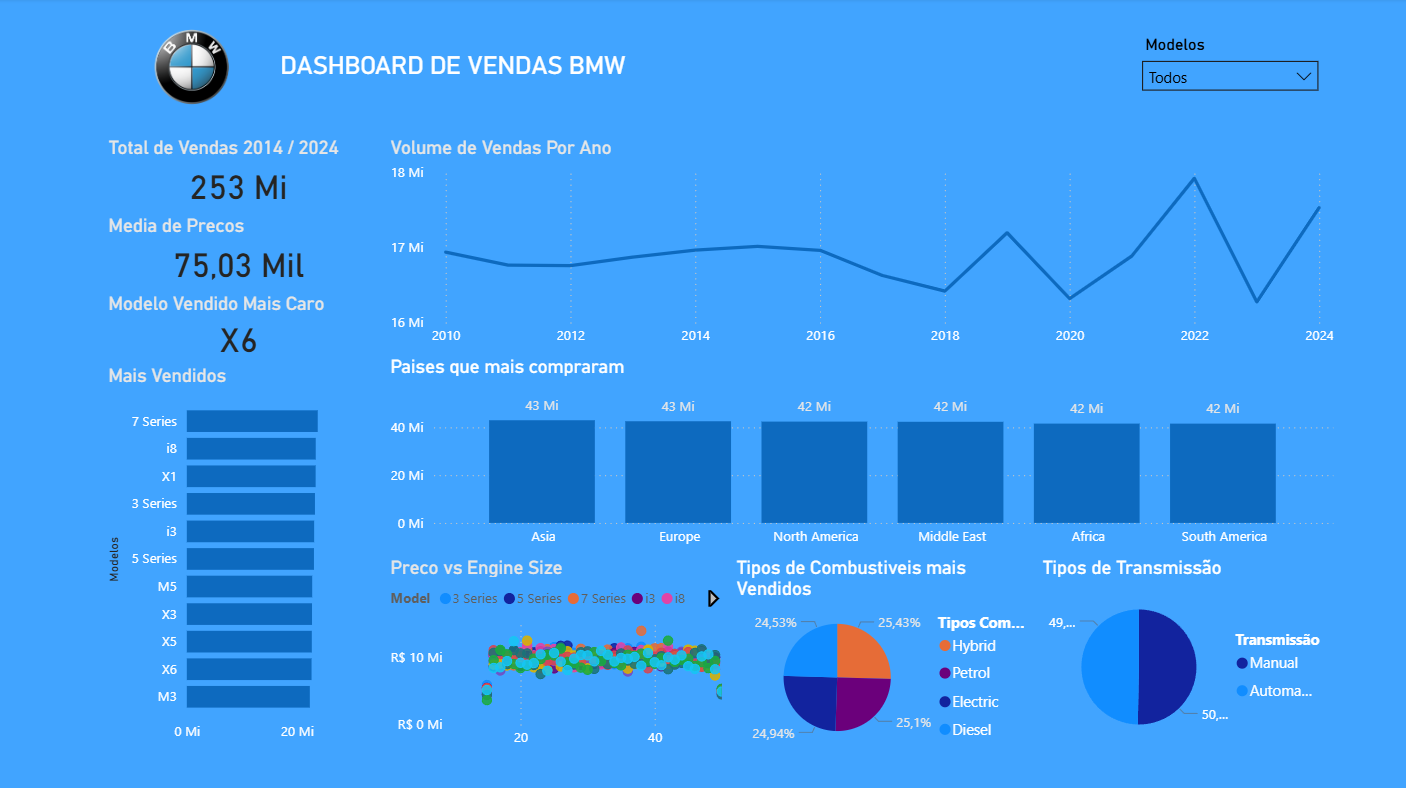

The dashboard page shown, as its layout file describes it:
{"tool":"powerbi","page":{"name":"Página 1","canvas":[1280,720],"ordinal":0},"visuals":[{"type":"lineChart","title":"Volume de Vendas Por Ano","fields":{"Category":["BMW sales data (2010-2024).Year"],"Y":["Sum(BMW sales data (2010-2024).Sales_Volume)"]},"box":[350,125.1,865.1,198.6],"z":0},{"type":"card","title":"Media de Precos","fields":{"Values":["Avg(BMW sales data (2010-2024).Price_USD)"]},"box":[94.3,195.9,245.7,70.7],"z":1000},{"type":"card","title":"Total de Vendas 2014 / 2024","fields":{"Values":["Sum(BMW sales data (2010-2024).Sales_Volume)"]},"box":[94.3,125.1,245.7,70.7],"z":2000},{"type":"barChart","title":"Mais Vendidos","fields":{"Category":["BMW sales data (2010-2024).Model"],"Y":["Sum(BMW sales data (2010-2024).Sales_Volume)"]},"box":[94.3,331.9,245.7,350.9],"z":3000},{"type":"slicer","fields":{"Values":["BMW sales data (2010-2024).Model"]},"box":[1026.5,29,179.5,66.2],"z":4000},{"type":"image","box":[94.3,0,161.4,125.1],"z":5000},{"type":"textbox","title":"DASHBOARD DE VENDAS BMW","box":[200.4,48.1,422.6,28.1],"z":6000},{"type":"pieChart","title":"Tipos de Combustiveis mais Vendidos","fields":{"Category":["BMW sales data (2010-2024).Fuel_Type"],"Y":["CountNonNull(BMW sales data (2010-2024).Fuel_Type)"]},"box":[663.8,506,276.6,182.3],"z":7000},{"type":"pieChart","title":"Tipos de Transmissão","fields":{"Category":["BMW sales data (2010-2024).Transmission"],"Y":["CountNonNull(BMW sales data (2010-2024).Transmission)"]},"box":[941.3,506,273.9,182.3],"z":8000},{"type":"columnChart","title":"Paises que mais compraram","fields":{"Category":["BMW sales data (2010-2024).Region"],"Y":["Sum(BMW sales data (2010-2024).Sales_Volume)"]},"box":[350,323.7,865.1,182.3],"z":9000},{"type":"scatterChart","title":"Preco vs Engine Size","fields":{"X":["BMW sales data (2010-2024).Engine_Size_L"],"Y":["Sum(BMW sales data (2010-2024).Price_USD)"],"Series":["BMW sales data (2010-2024).Model"]},"box":[350,506,317.4,182.3],"z":10000},{"type":"card","title":"Modelo Vendido Mais Caro","fields":{"Values":["BMW sales data (2010-2024).Modelo_Mais_Caro"]},"box":[94.3,266.6,245.7,65.3],"z":10001}]}

Visuals, with their boxes in screenshot pixels (x1, y1, x2, y2), scaled from the page's 1280x720 canvas onto the 1406x788 screenshot:
"Volume de Vendas Por Ano" lineChart: 384:137:1335:354
"Media de Precos" card: 104:214:373:292
"Total de Vendas 2014 / 2024" card: 104:137:373:214
"Mais Vendidos" barChart: 104:363:373:747
slicer - BMW sales data (2010-2024).Model: 1128:32:1325:104
image: 104:0:281:137
"DASHBOARD DE VENDAS BMW" textbox: 220:53:684:83
"Tipos de Combustiveis mais Vendidos" pieChart: 729:554:1033:753
"Tipos de Transmissão" pieChart: 1034:554:1335:753
"Paises que mais compraram" columnChart: 384:354:1335:554
"Preco vs Engine Size" scatterChart: 384:554:733:753
"Modelo Vendido Mais Caro" card: 104:292:373:363
